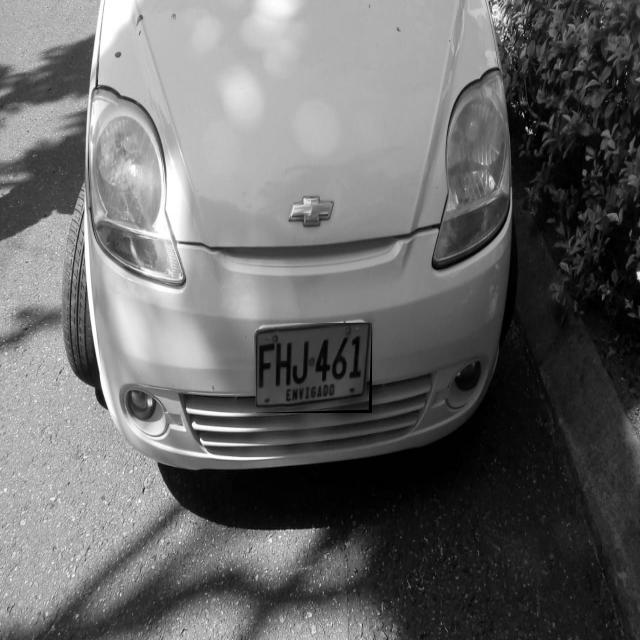plate: (256, 324, 372, 414)
